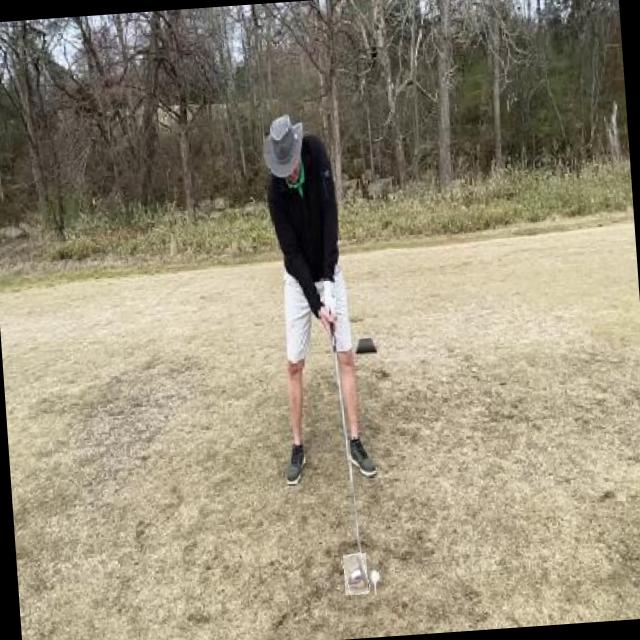club head: (342, 552, 368, 594)
